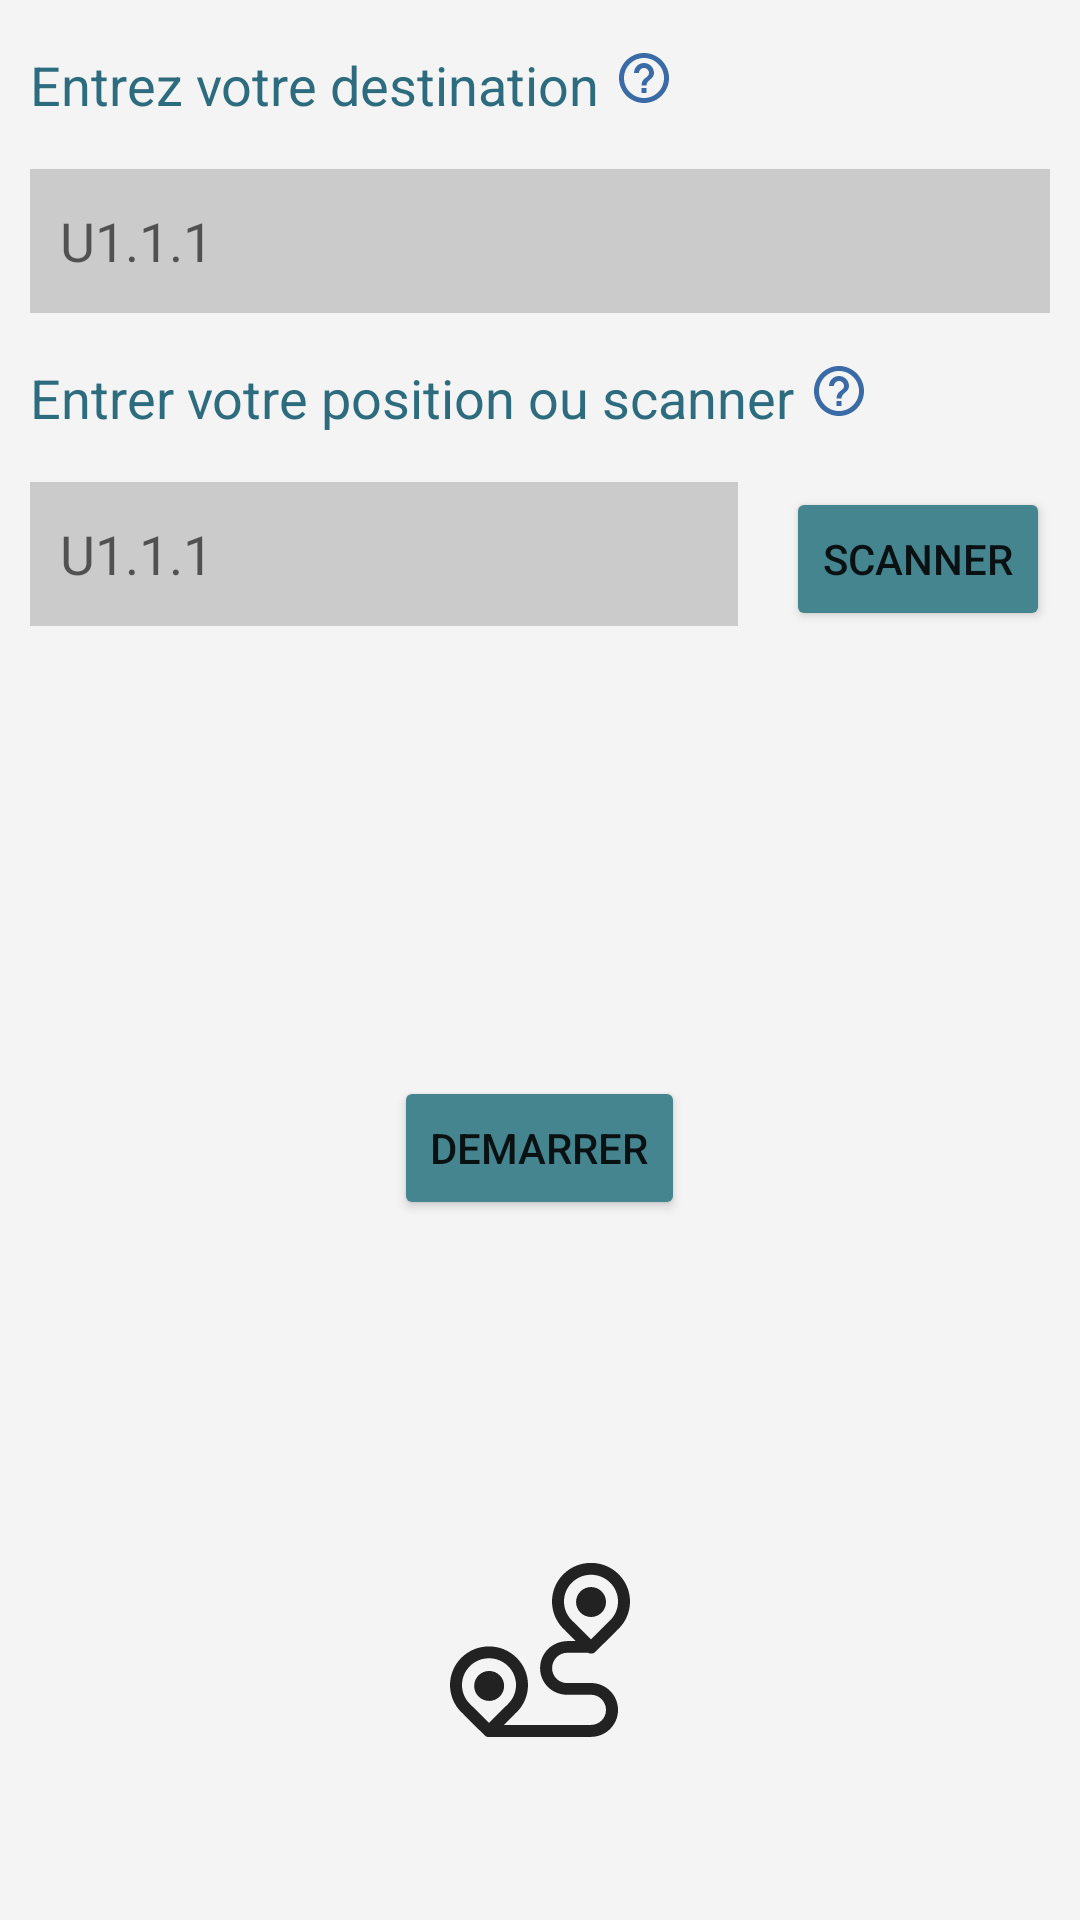

Icon bounding boxes for this 1080*1920 phone screenshot, format Rect(x1, y1, x2, y2):
help: Rect(619, 53, 669, 103), Rect(814, 366, 864, 416)
route: Rect(450, 1563, 630, 1737)
